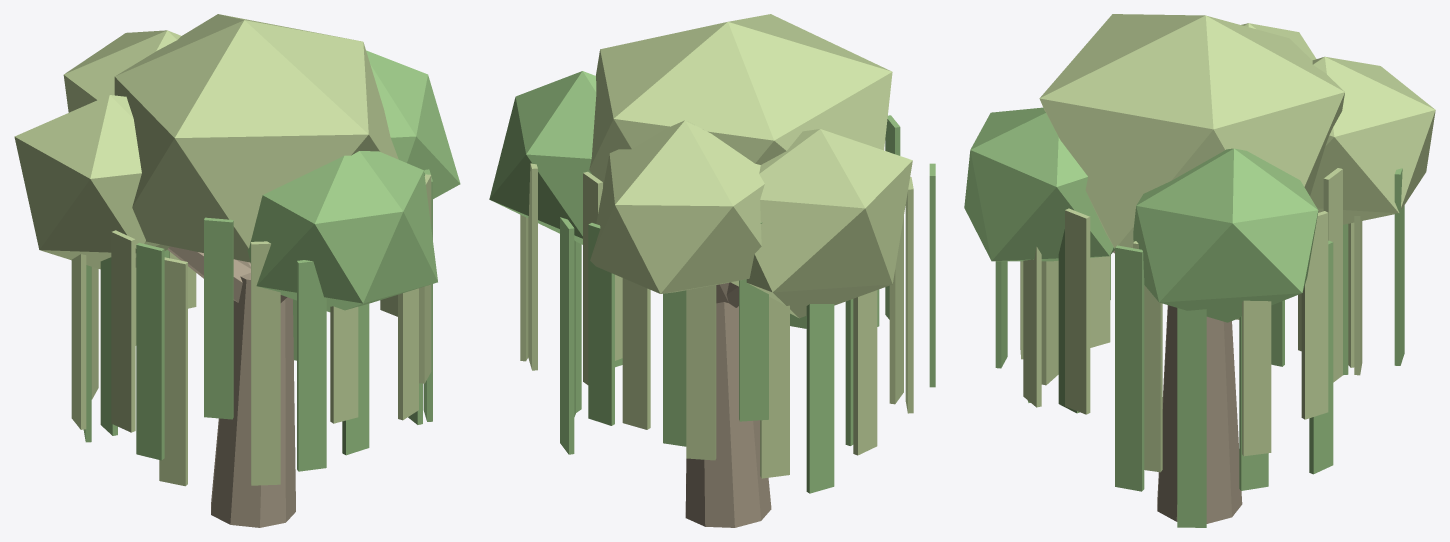
The model's file is Tree_Willow.fbx.
3 renders of one model, left to right at view 1: azimuth 30°, elevation 25°; view 2: azimuth 150°, elevation 25°; view 3: azimuth 270°, elevation 25°, orthographic.
Visible parts, largest first — view 1: Tree_Willow_Mesh; view 2: Tree_Willow_Mesh; view 3: Tree_Willow_Mesh.
Boxes of the visible parts, x1,y1,x2,y2 form: Tree_Willow_Mesh: (14, 14, 460, 527); Tree_Willow_Mesh: (489, 14, 935, 527); Tree_Willow_Mesh: (964, 14, 1435, 527).
Size of the model in its own units: 6.02 by 7.4 by 6.47.
